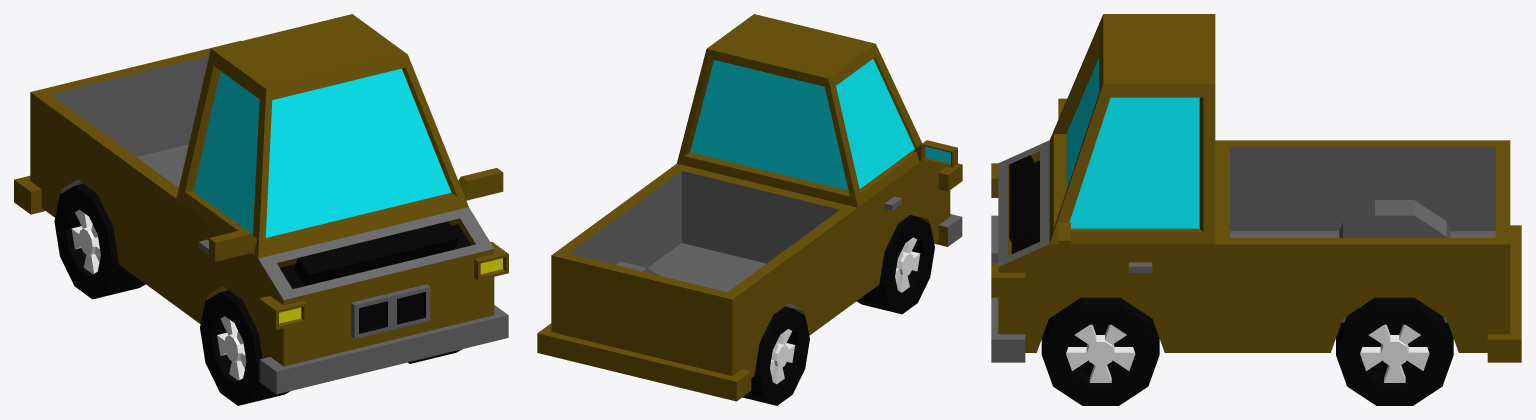
File: truck_2026.fbx
3 views of the same model, side by side, from view 1: azimuth 30°, elevation 25°; view 2: azimuth 150°, elevation 25°; view 3: azimuth 270°, elevation 25° (orthographic). The views are drawn at different scales.
Parts seen in each view (by area): view 1: Car; view 2: Car; view 3: Car.
Part boxes in pixels (<box>): Car: <box>14,14,508,405</box>; Car: <box>537,14,962,405</box>; Car: <box>991,14,1521,405</box>.
Size of the model in its own units: 263 by 261 by 414.
